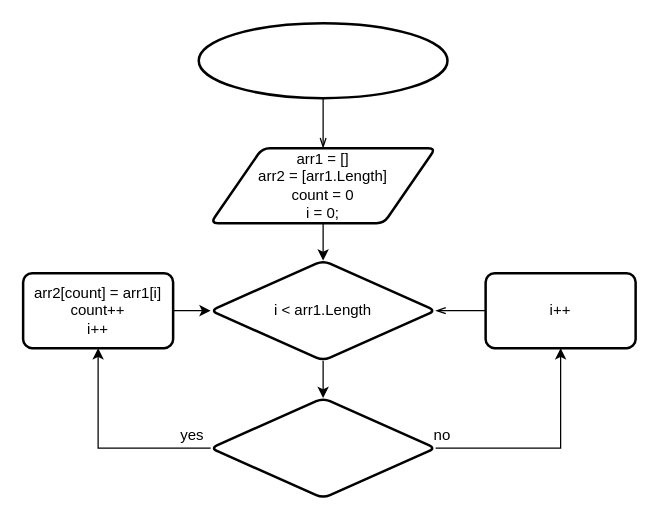
Some shapes in this 658 by 520 pixel diagram are drawn without their labels. Here are the shapes that lost their labels. From the top down, the centre of each, then its label:
[322,60]: SecondArrayIsFilling
[322,447]: arr1[i].Lenght < 3
